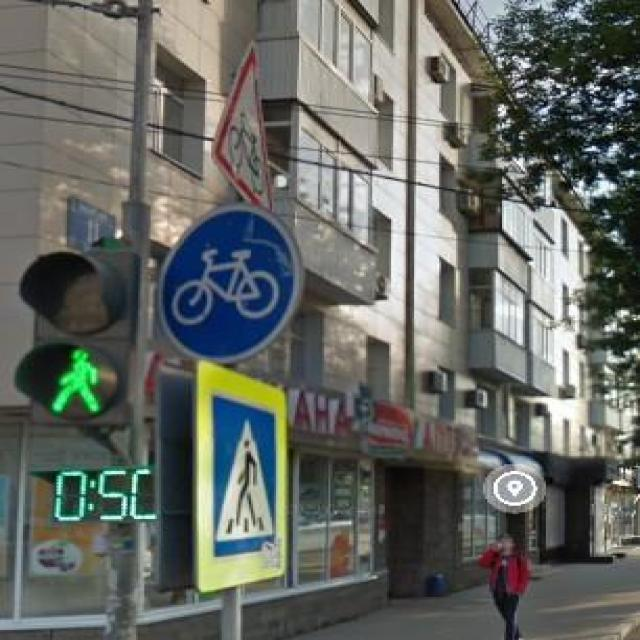Przejscie dla pieszych: (194, 355, 290, 597)
